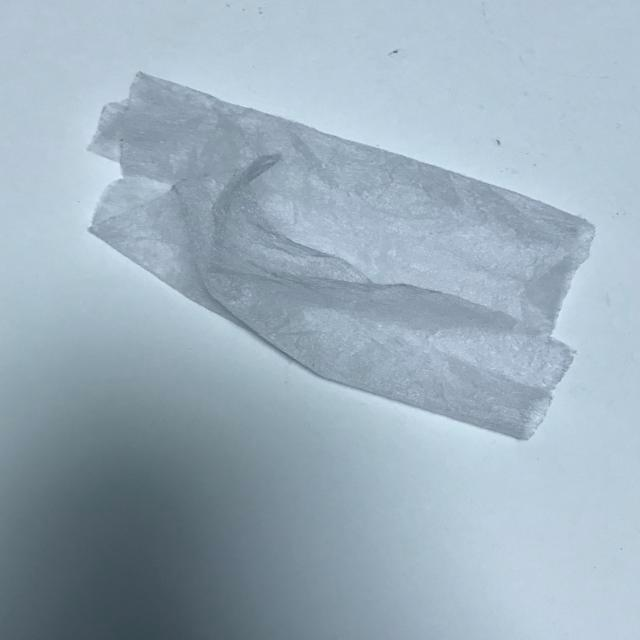paper: (79, 60, 622, 458)
